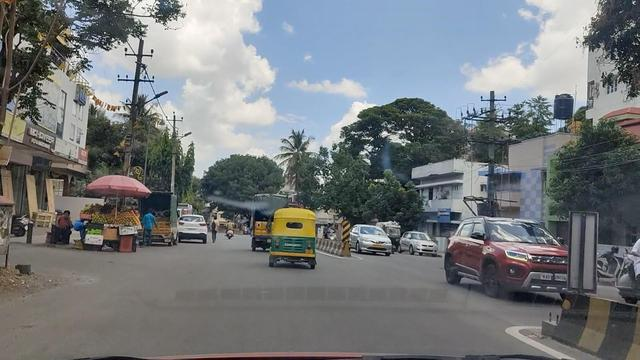LMV: (268, 208, 316, 263)
